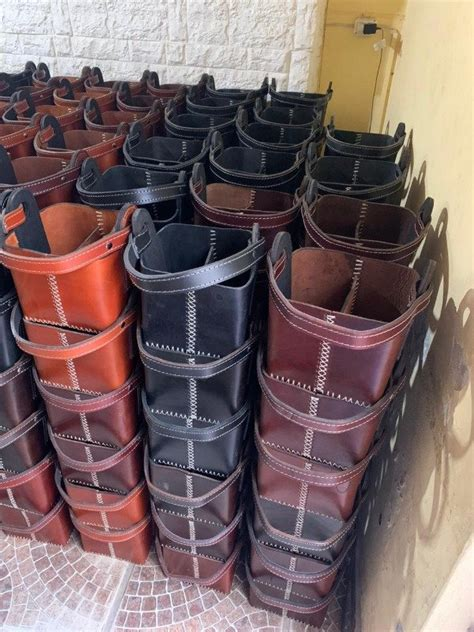cuero: (7, 65, 431, 632)
